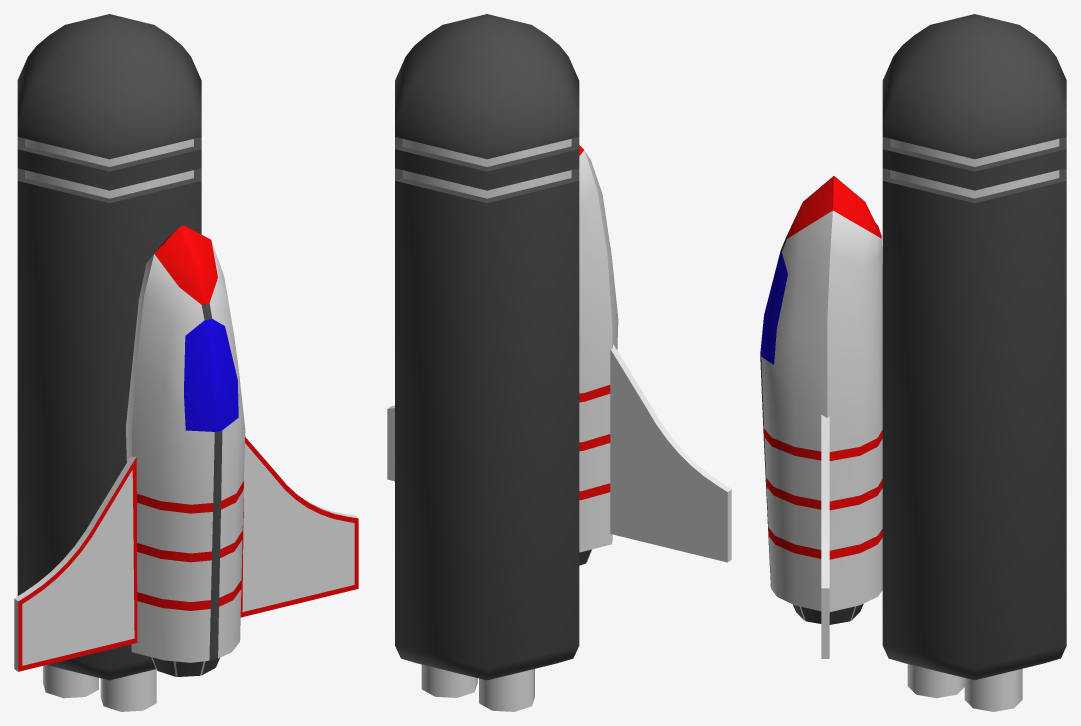
File: Scout.fbx
3 renders of one model, left to right at view 1: azimuth 30°, elevation 25°; view 2: azimuth 150°, elevation 25°; view 3: azimuth 270°, elevation 25°, orthographic.
Visible parts, largest first — view 1: Scout; view 2: Scout; view 3: Scout.
Boxes of the visible parts, left/top/right/bottom form: Scout: left=14, top=14, right=358, bottom=711; Scout: left=387, top=14, right=731, bottom=711; Scout: left=760, top=14, right=1066, bottom=711.
Bounding box in the file's own units: 43.81 × 81.92 × 34.16.
